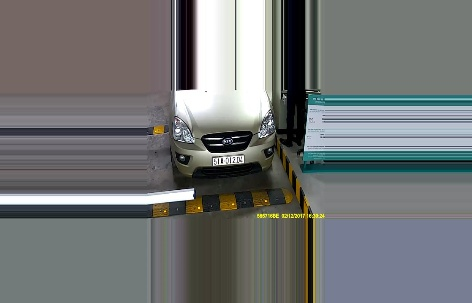plate: (211, 153, 245, 163)
